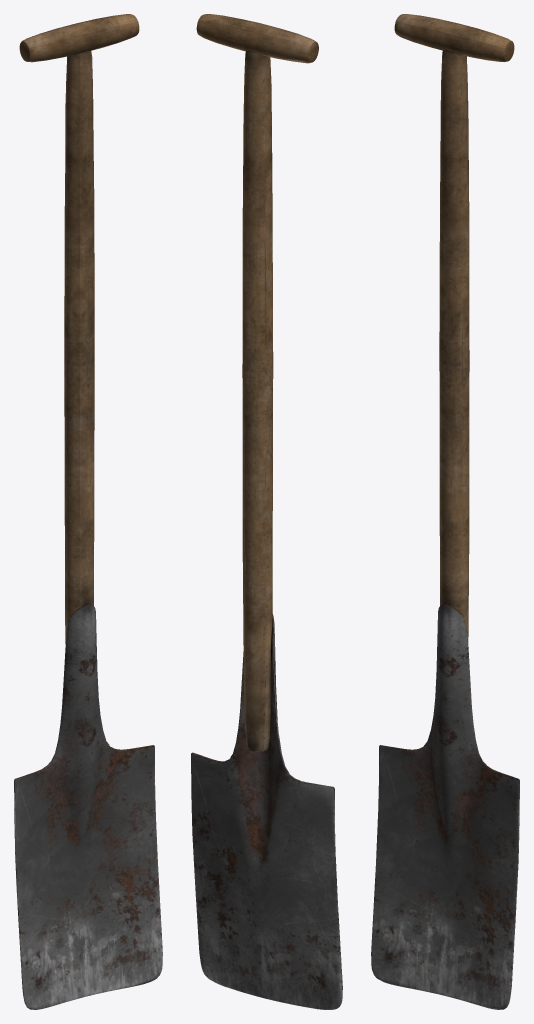
Rendered from rusted_spade_01_1k.gltf.
3 renders of one model, left to right at view 1: azimuth 30°, elevation 25°; view 2: azimuth 150°, elevation 25°; view 3: azimuth 330°, elevation 25°, orthographic. The views are drawn at different scales.
Parts seen in each view (by area): view 1: rusted_spade_01; view 2: rusted_spade_01; view 3: rusted_spade_01.
Part boxes in pixels (bbox=[...]): rusted_spade_01: bbox=[14, 14, 162, 1009]; rusted_spade_01: bbox=[191, 14, 342, 1009]; rusted_spade_01: bbox=[371, 14, 519, 1009].
Bounding box in the file's own units: 0.1682 × 1.1 × 0.0457.
Materials: 1 (1 with a texture image).
